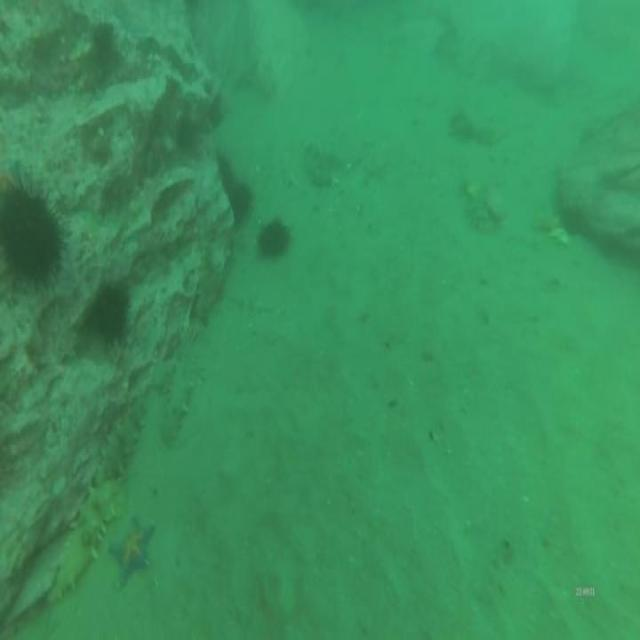echinus: (0, 177, 70, 294), (90, 276, 133, 352), (254, 215, 294, 264), (90, 18, 119, 66), (230, 177, 253, 229), (174, 114, 199, 161), (558, 201, 588, 240), (214, 150, 234, 198)
holothurian: (45, 474, 122, 610), (92, 395, 150, 488), (157, 369, 199, 454), (301, 130, 347, 174)
starfish: (111, 513, 157, 588)
